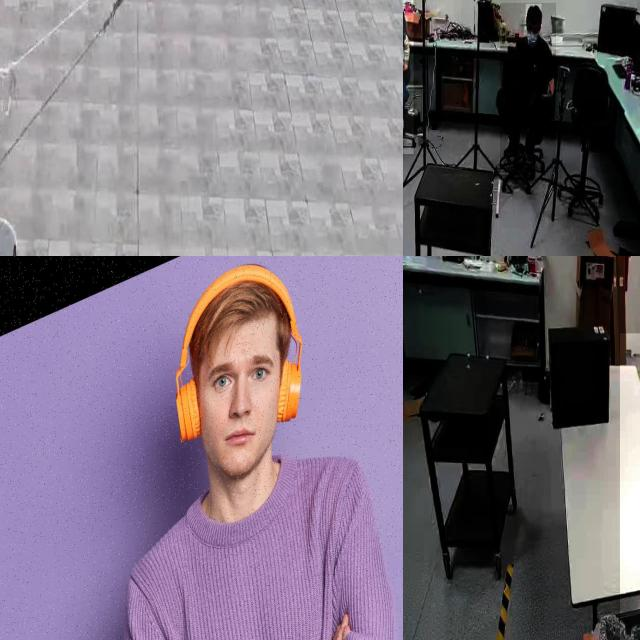Ear-protection: (168, 360, 212, 450), (273, 346, 307, 430)
No_Glasses: (202, 345, 278, 406)
face_mask: (524, 18, 540, 53), (403, 15, 407, 43)
head_nohelmet: (526, 4, 542, 22)
person: (500, 3, 556, 170), (403, 0, 413, 155)
